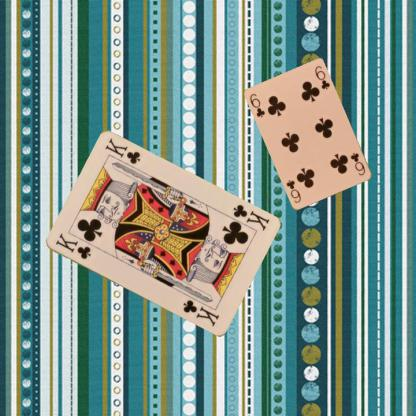6c: (248, 91, 266, 119), (348, 150, 366, 176)
Kc: (52, 230, 92, 260), (230, 202, 270, 232)
